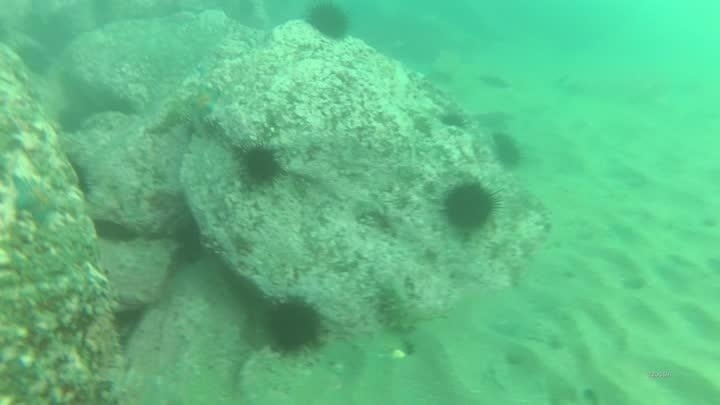echinus: (262, 294, 327, 357), (439, 178, 501, 235), (237, 142, 284, 187), (303, 2, 353, 43), (170, 217, 206, 264), (13, 41, 54, 78), (489, 131, 525, 171), (437, 108, 469, 133)
holothurian: (373, 275, 419, 336)
starfish: (9, 174, 64, 227), (186, 83, 223, 119)
